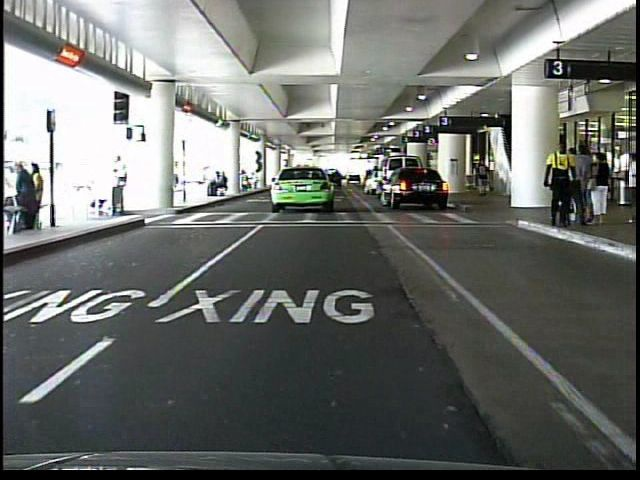person: (537, 143, 577, 237), (568, 145, 593, 233), (107, 157, 140, 223), (589, 148, 609, 234), (471, 155, 496, 204)
